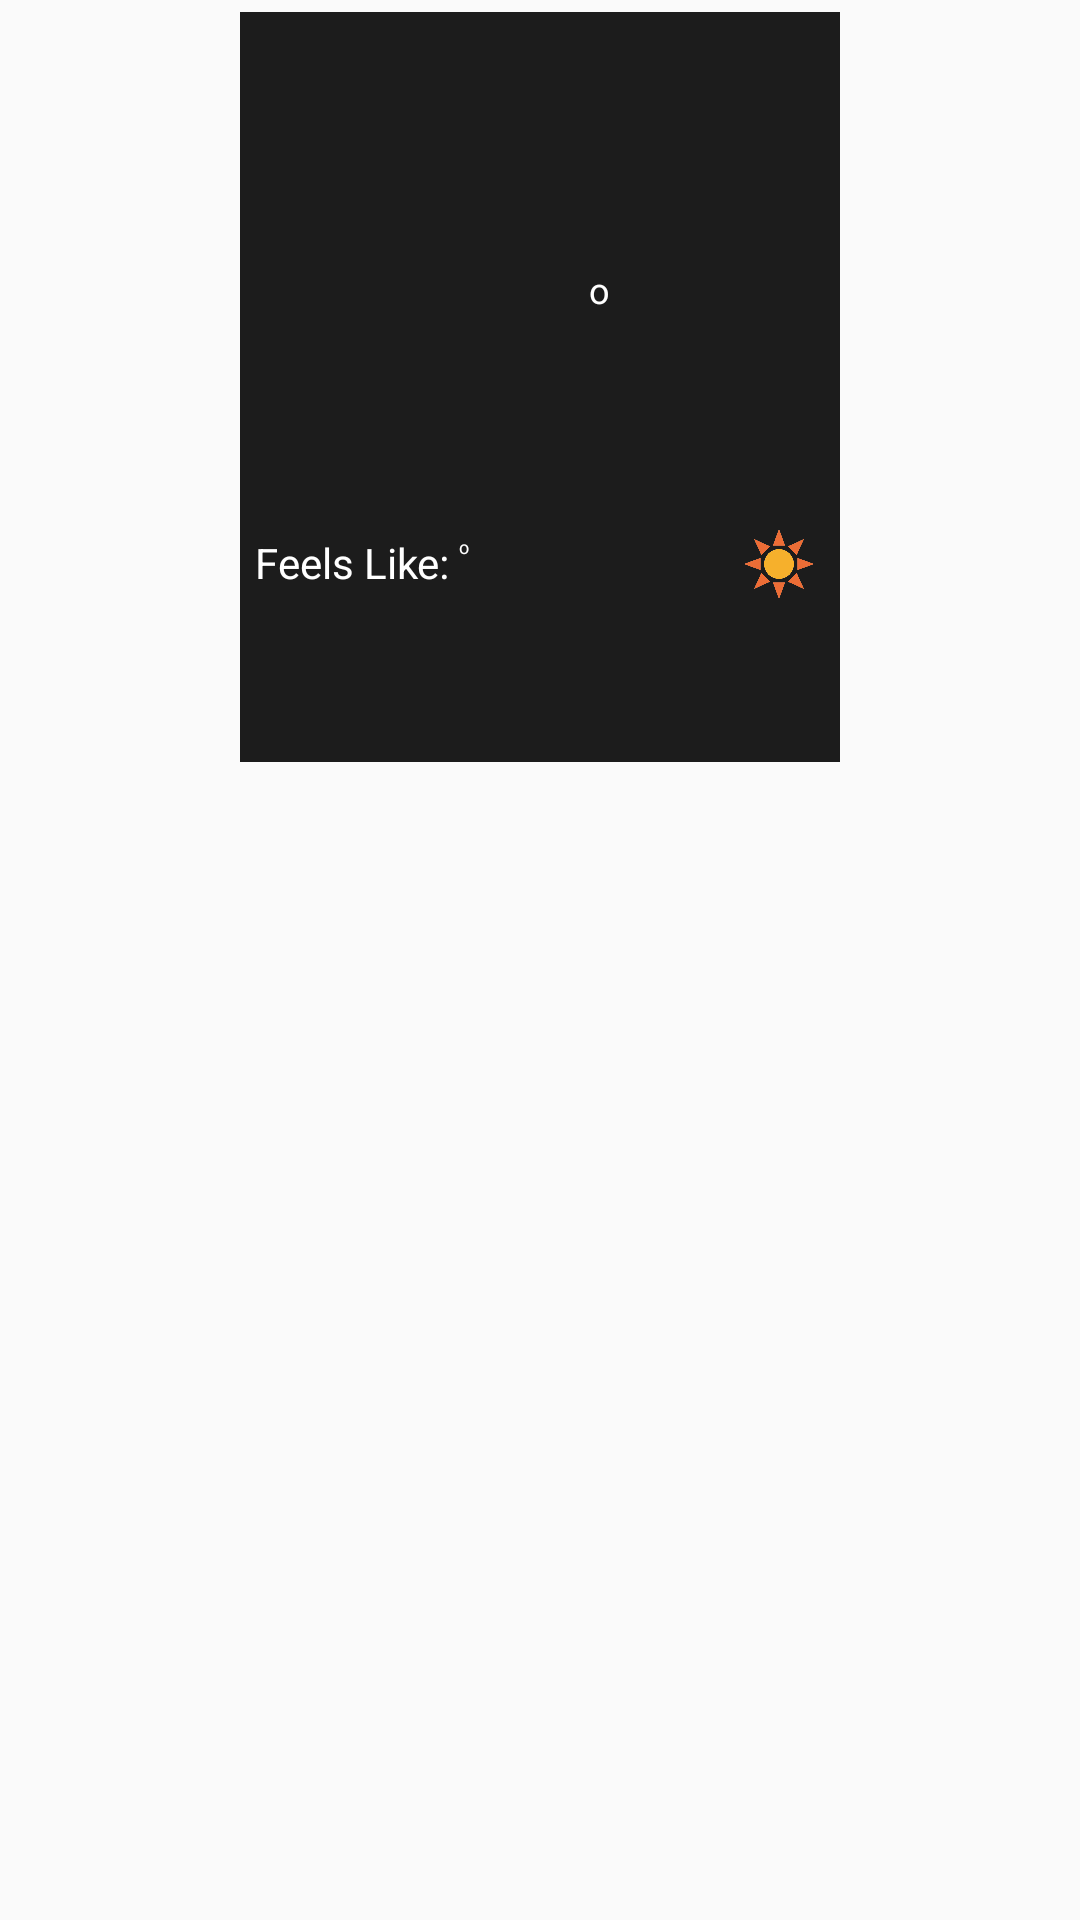

Point at icon controls on the screen. Image size 1080x1920, points as [x,y].
uv index: [779,564]
